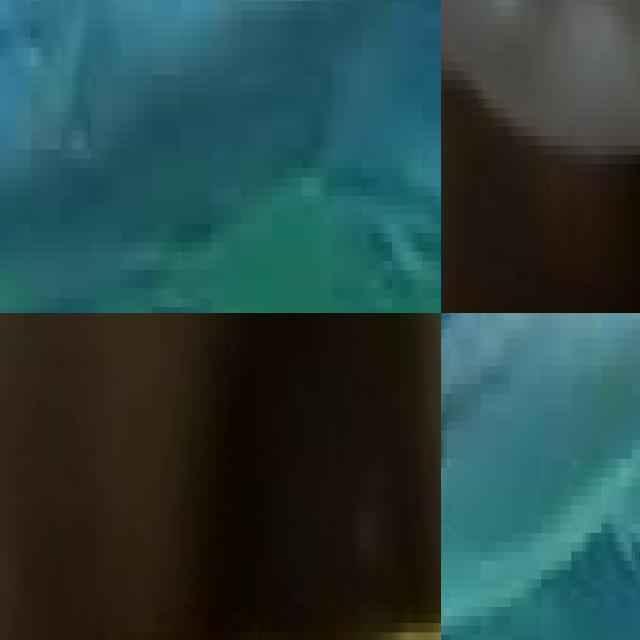fish: (0, 0, 441, 313), (441, 0, 640, 127)
